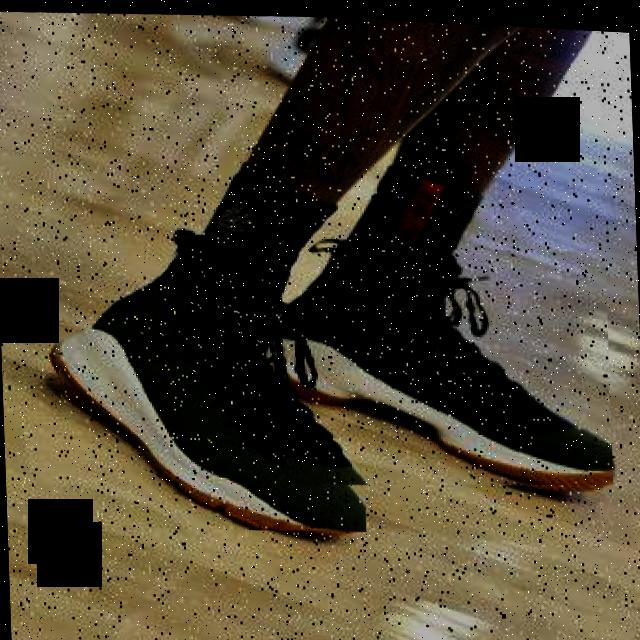shoe: (50, 231, 366, 538), (263, 231, 613, 495)
